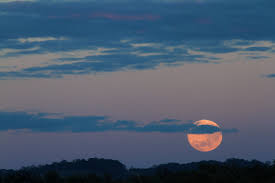moon: (186, 118, 223, 152)
